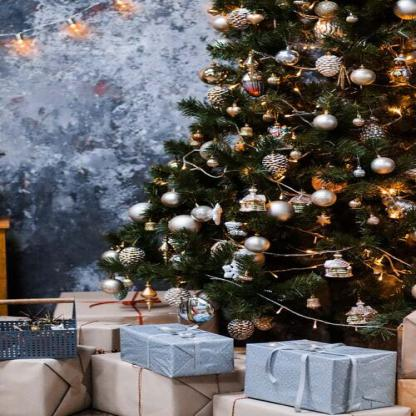present: (251, 340, 415, 416), (64, 285, 211, 342), (6, 349, 109, 401), (116, 322, 222, 372)
x_mas tree: (165, 0, 413, 329)
